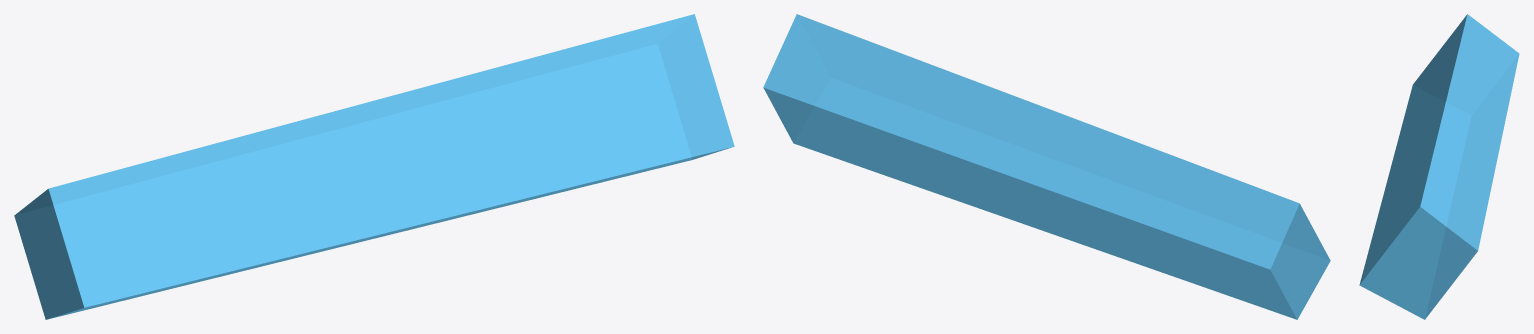
The model's file is Event_420094457_HErechit_77.fbx.
3 views of the same model, side by side, from view 1: azimuth 30°, elevation 25°; view 2: azimuth 150°, elevation 25°; view 3: azimuth 270°, elevation 25° (orthographic). The views are drawn at different scales.
Parts seen in each view (by area): view 1: Model; view 2: Model; view 3: Model.
Boxes of the visible parts, left/top/right/bottom form: Model: left=14, top=14, right=734, bottom=319; Model: left=763, top=14, right=1330, bottom=319; Model: left=1359, top=14, right=1519, bottom=319.
Bounding box in the file's own units: 1.2 × 0.3364 × 0.3551.
